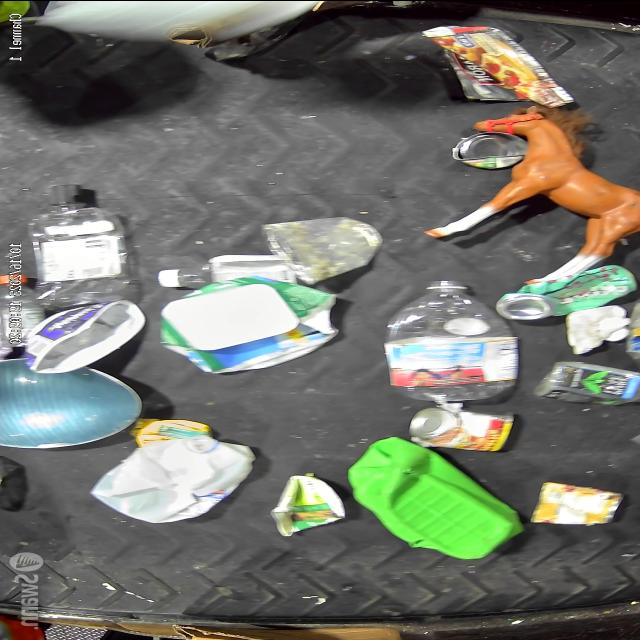can: (491, 264, 638, 320), (406, 404, 514, 452), (532, 479, 626, 525), (450, 130, 530, 168)
milk_jug: (91, 436, 257, 524)
non_white_jug: (348, 436, 528, 560)
plastic_bottle: (385, 278, 519, 403), (29, 182, 133, 308), (157, 254, 301, 292)
